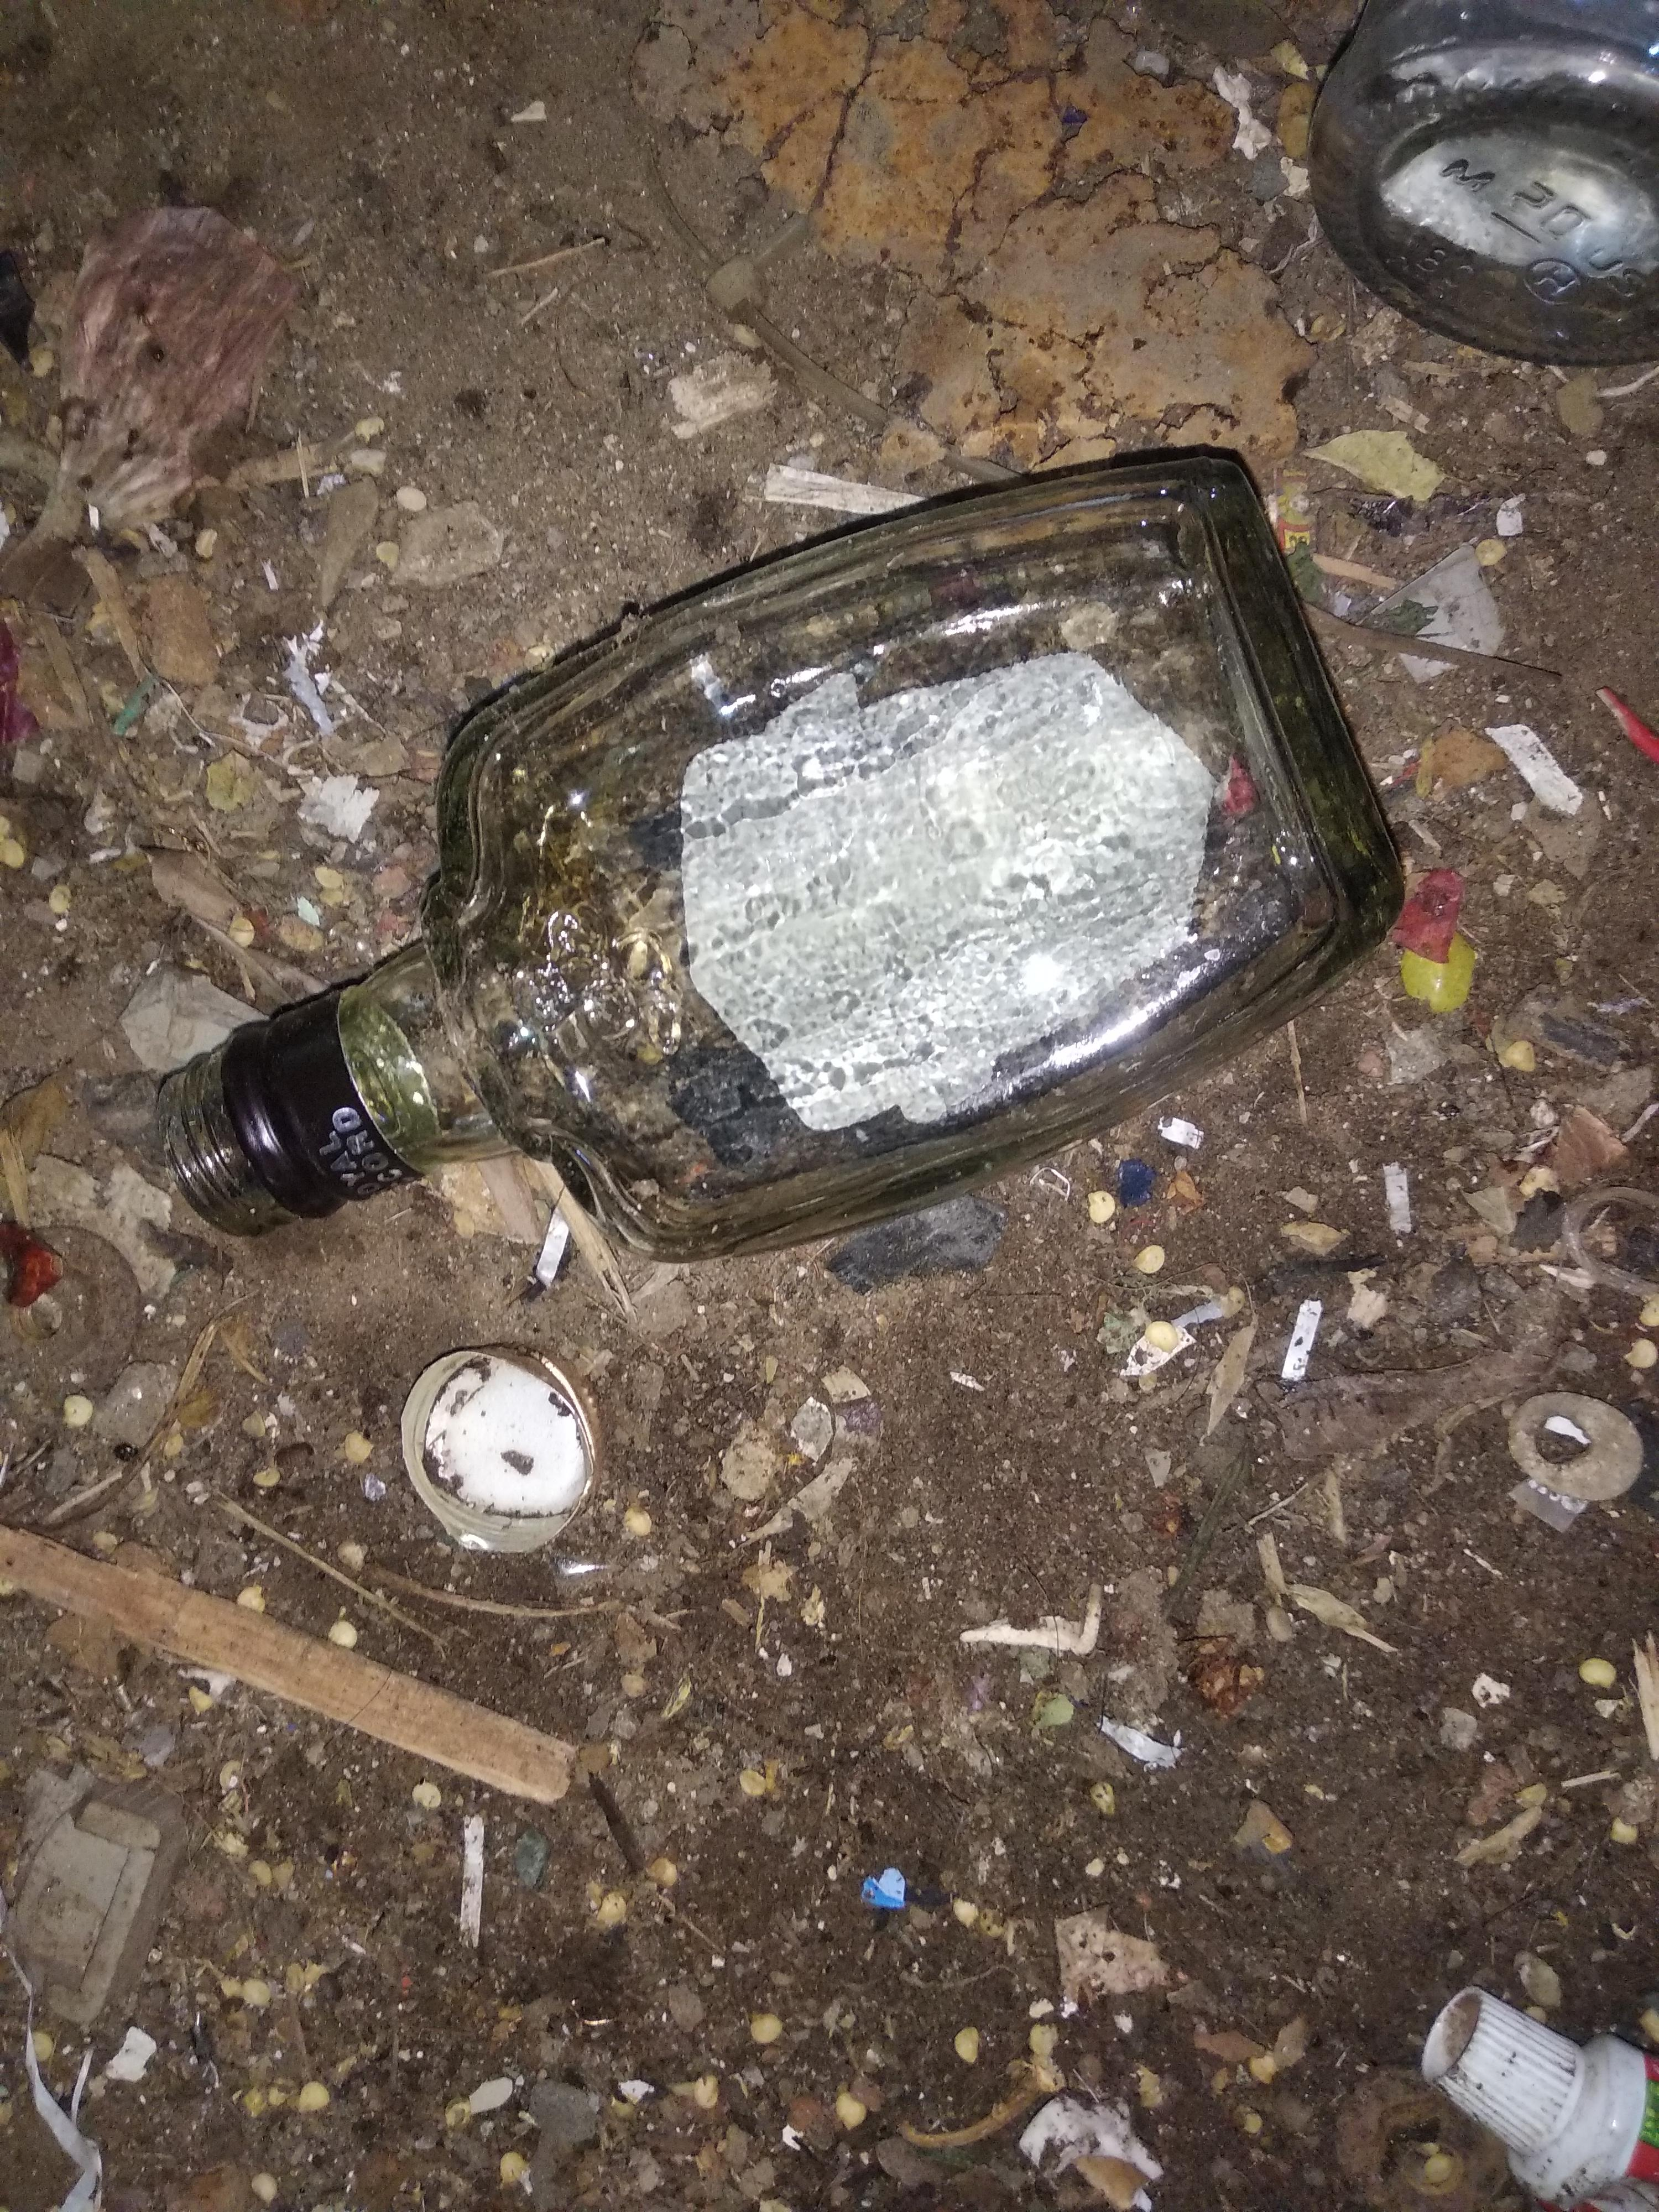trash: (160, 423, 1443, 1564)
